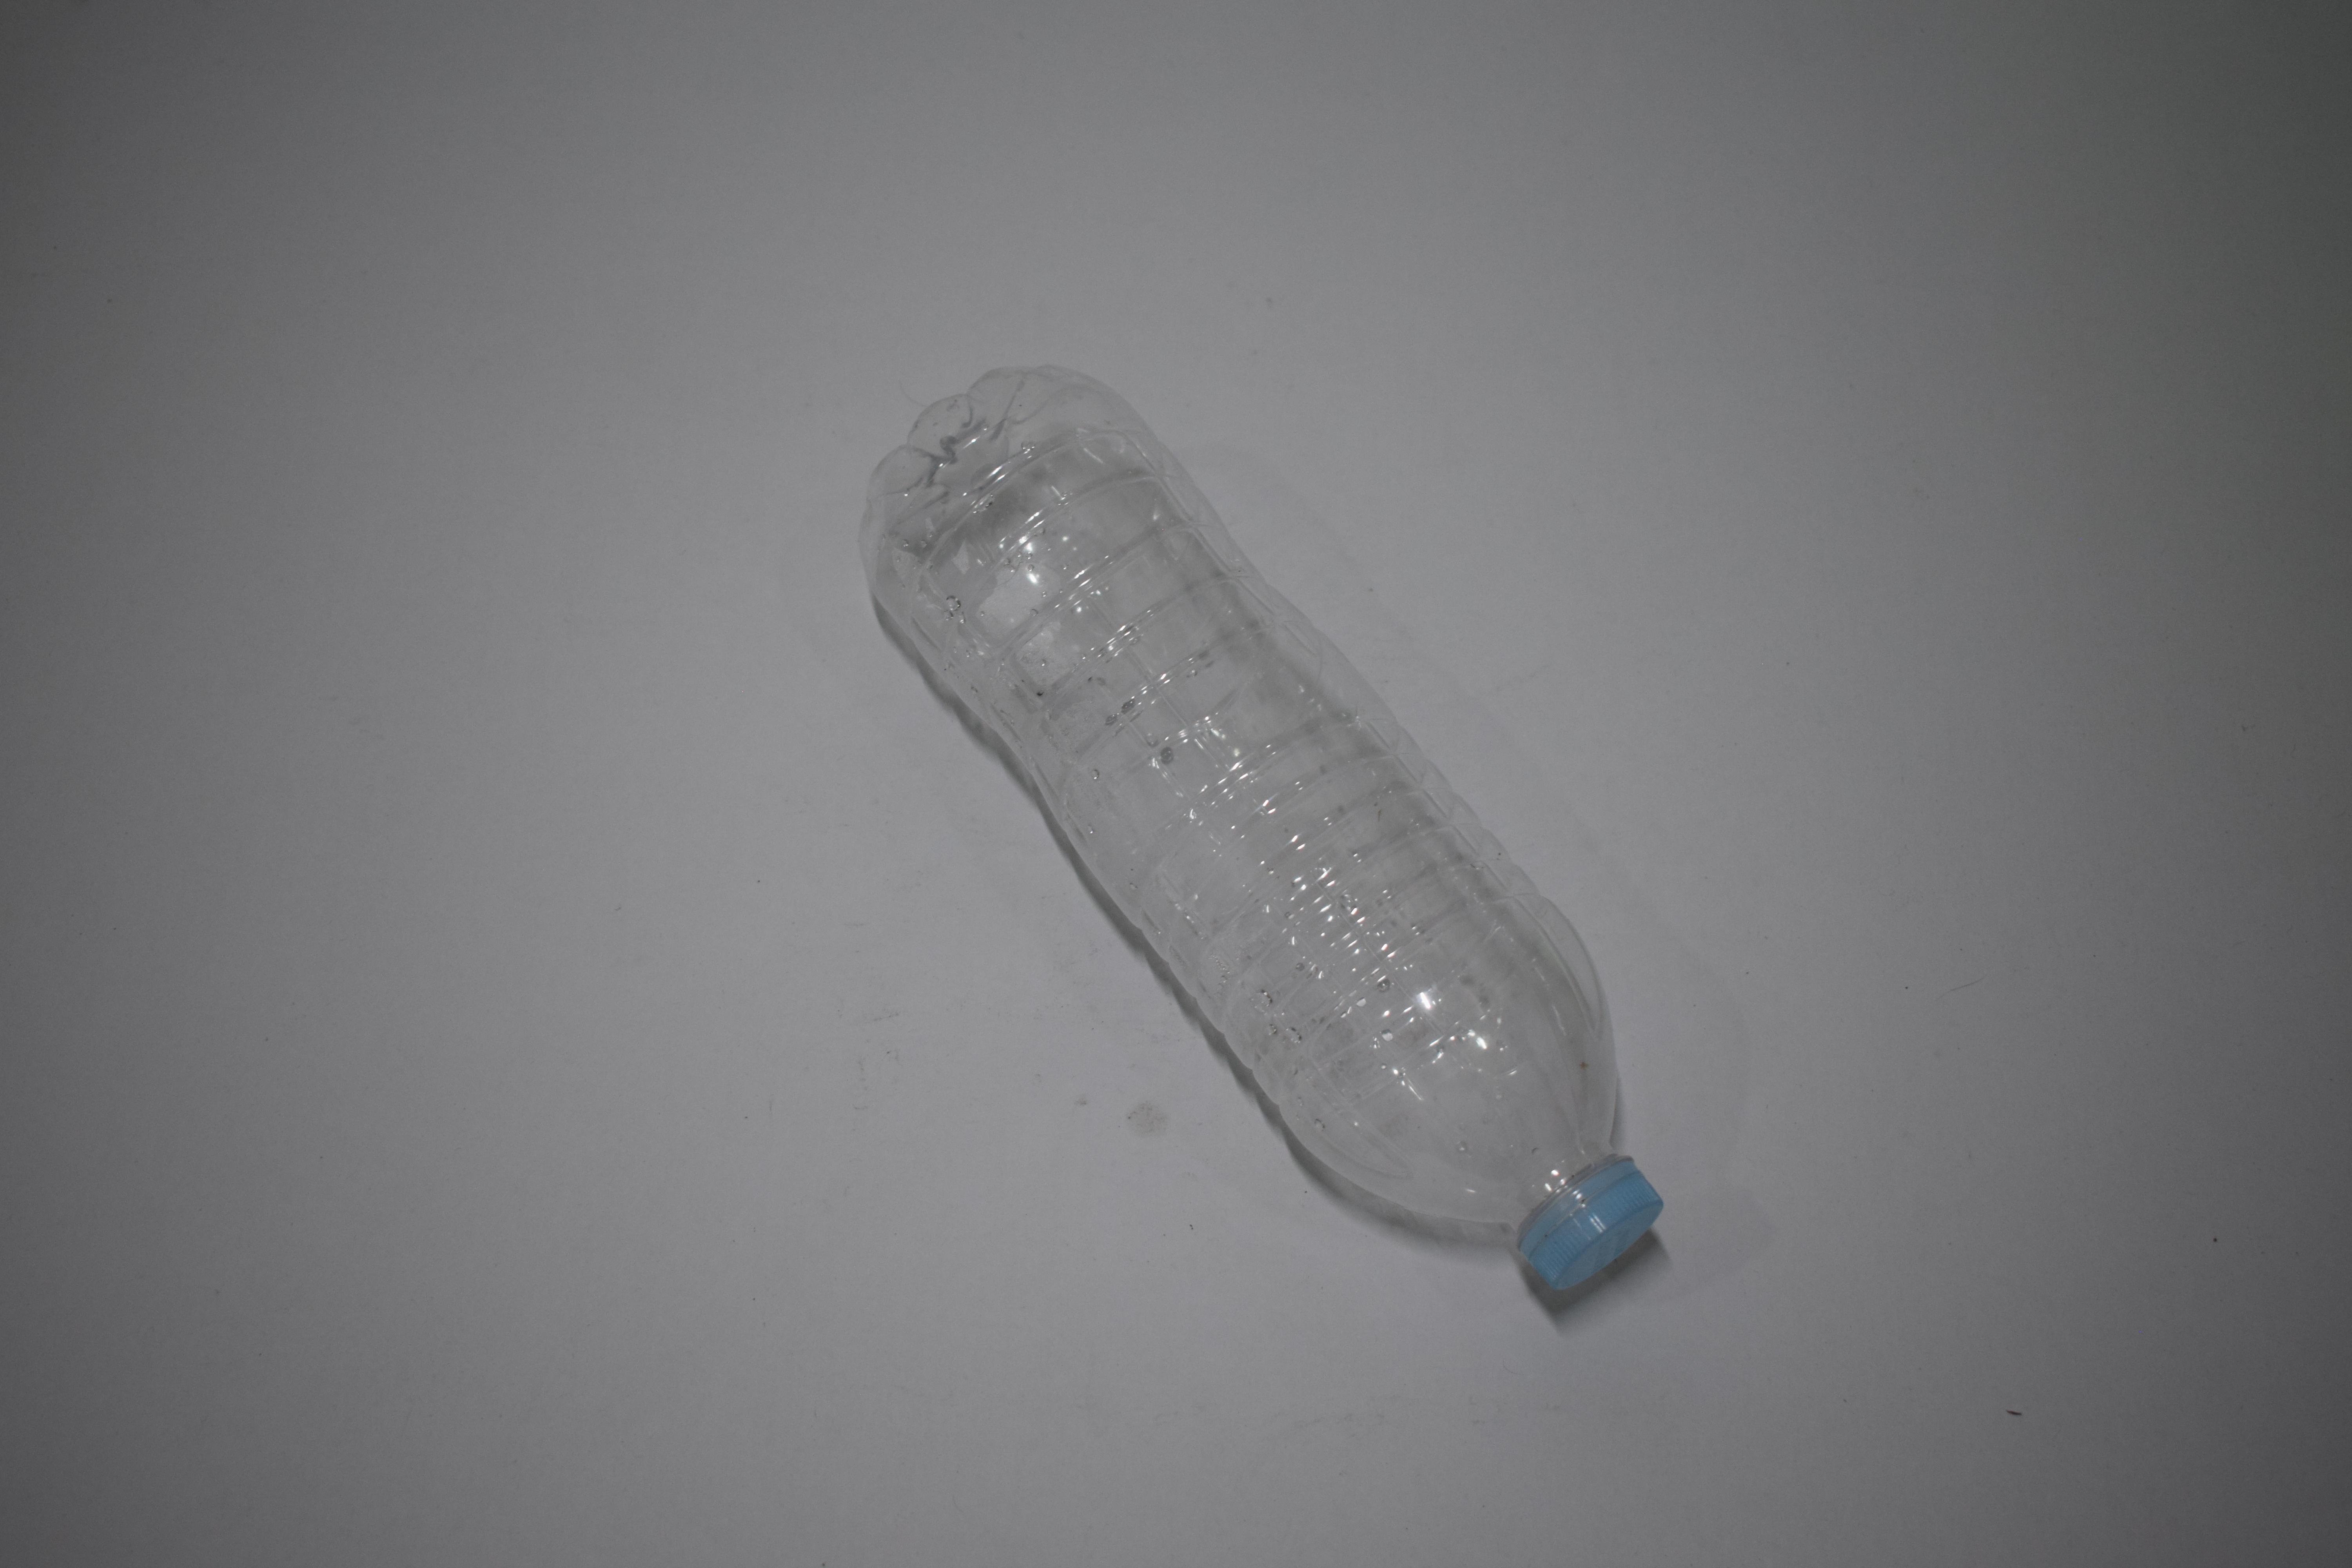bottle: (0, 0, 487, 513)
